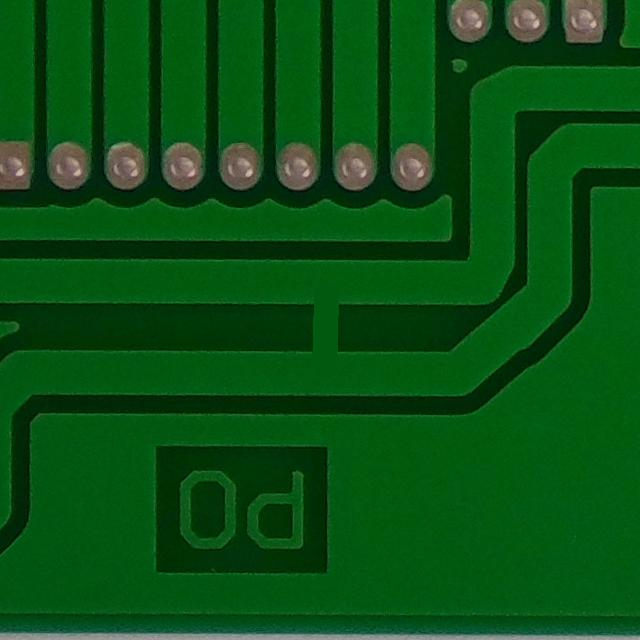short: (245, 234, 396, 407)
